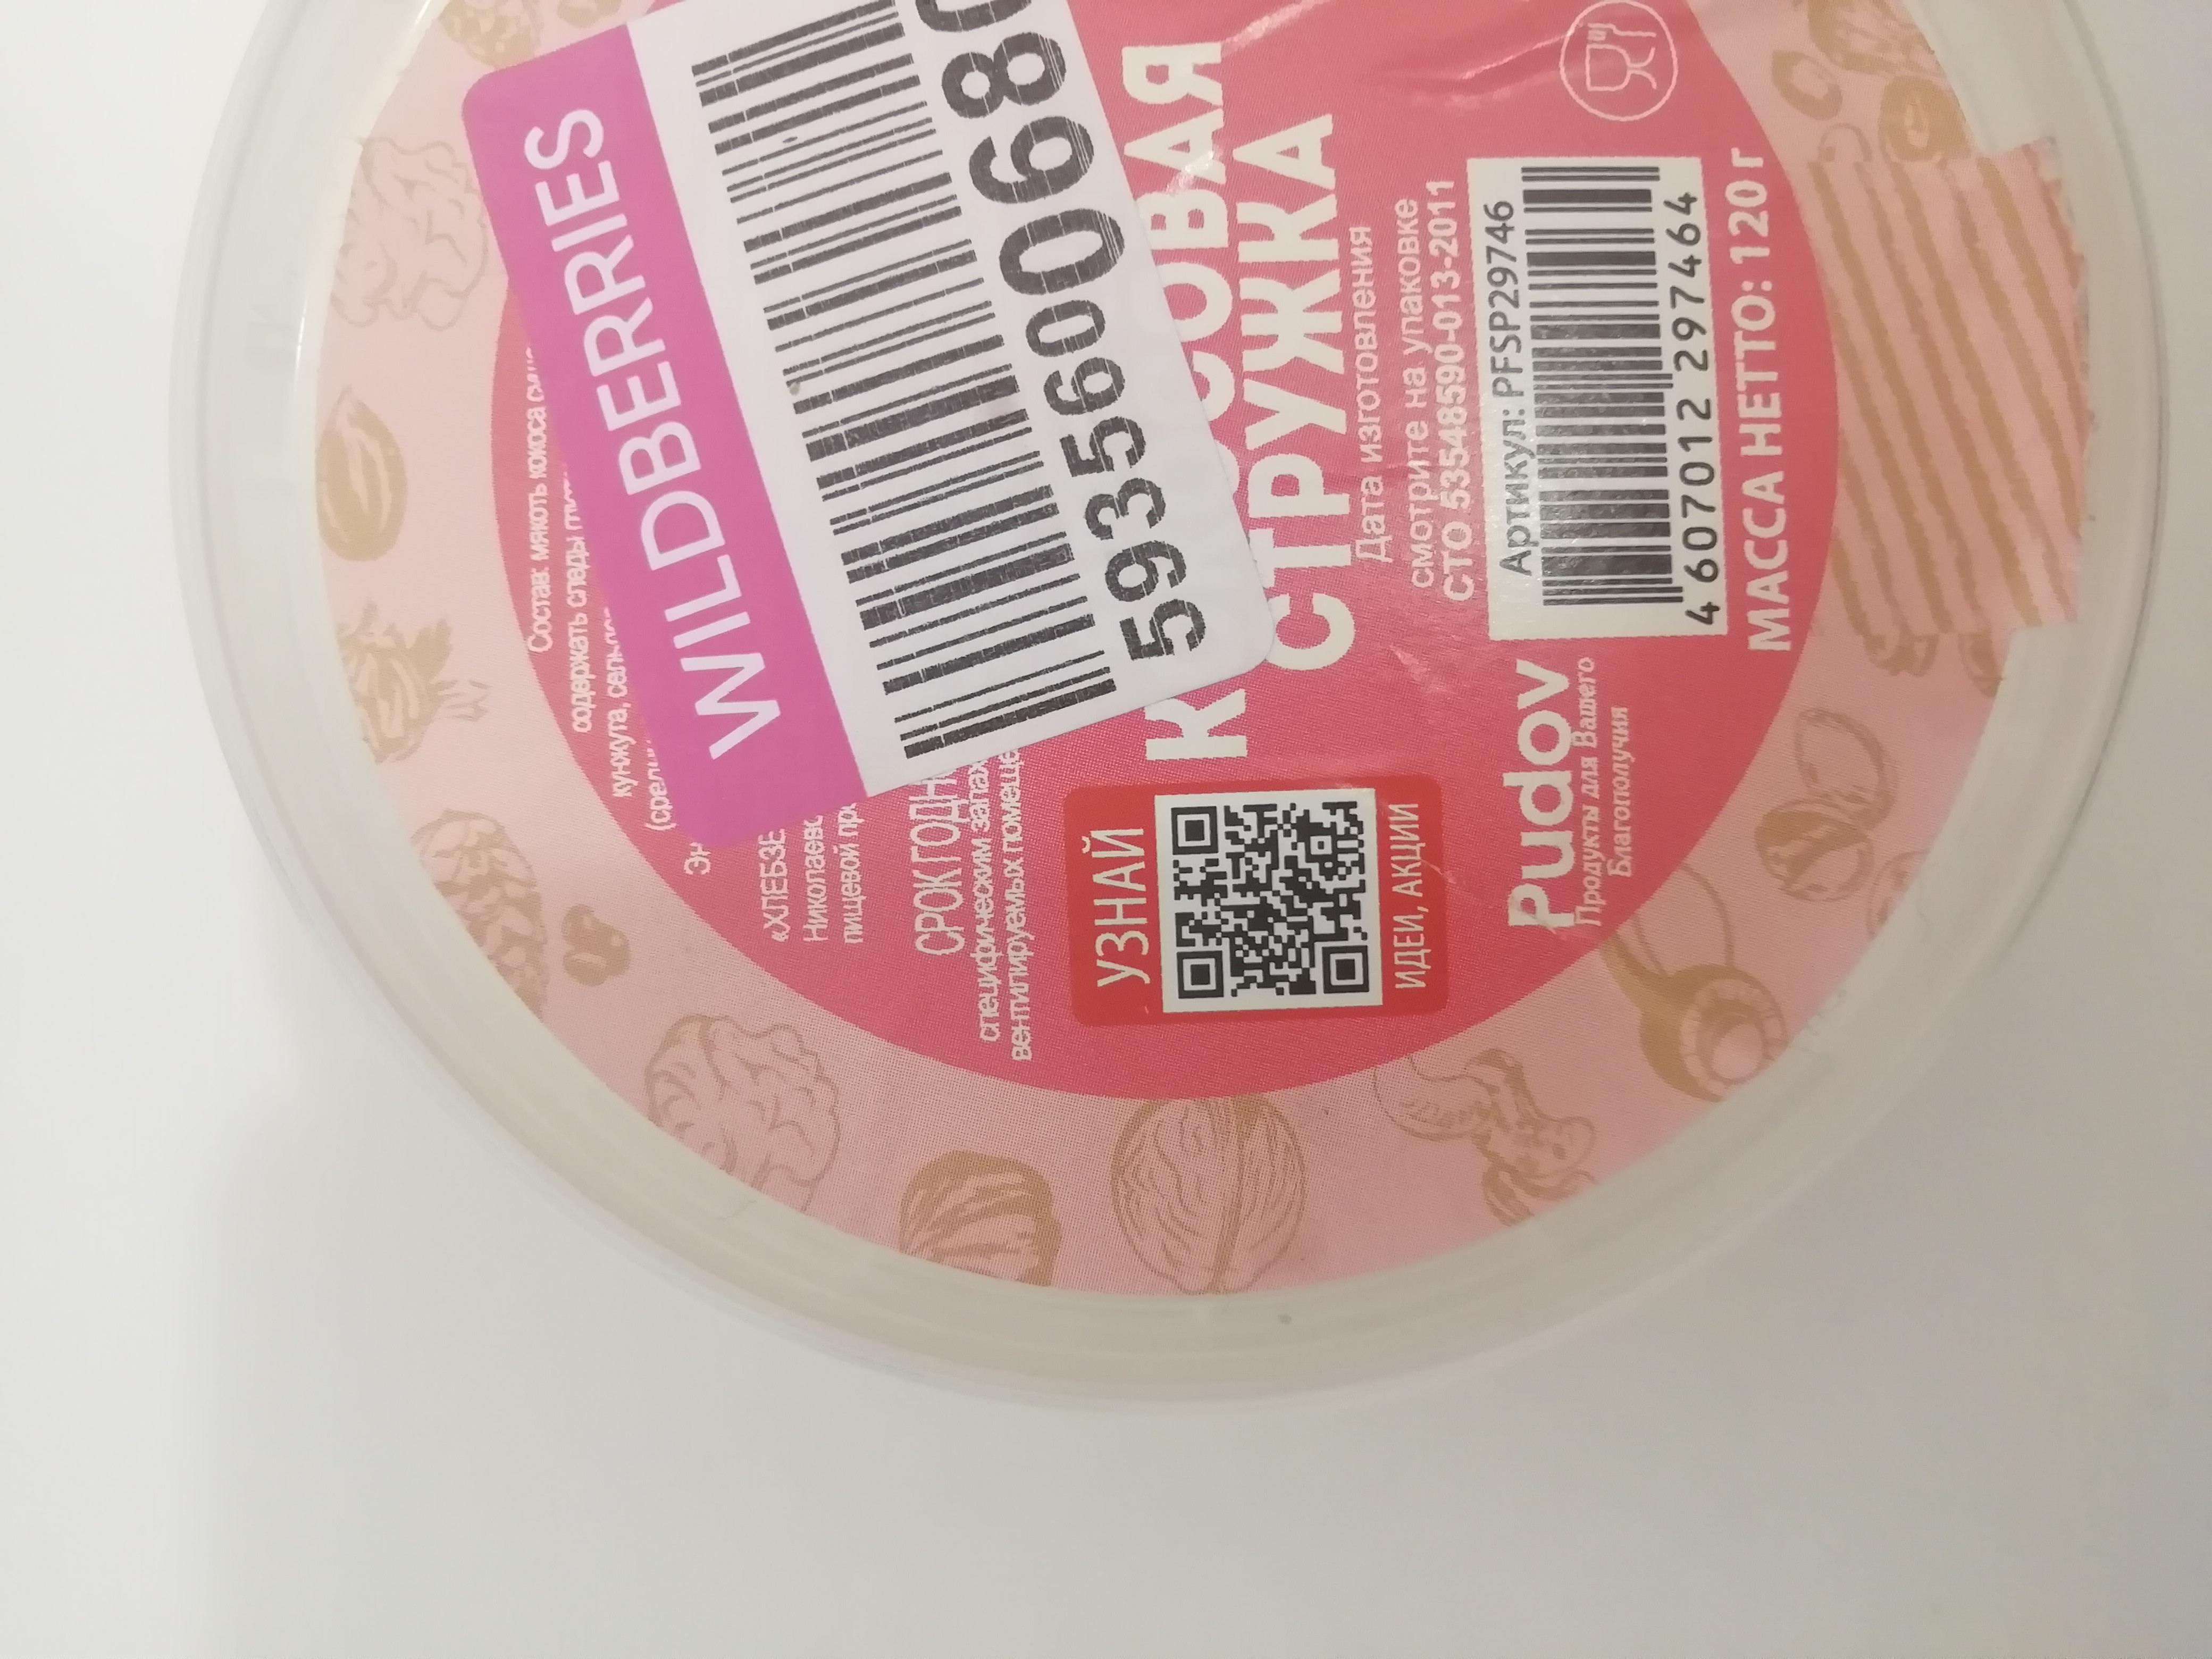qrcode: (1172, 798, 1372, 1000)
